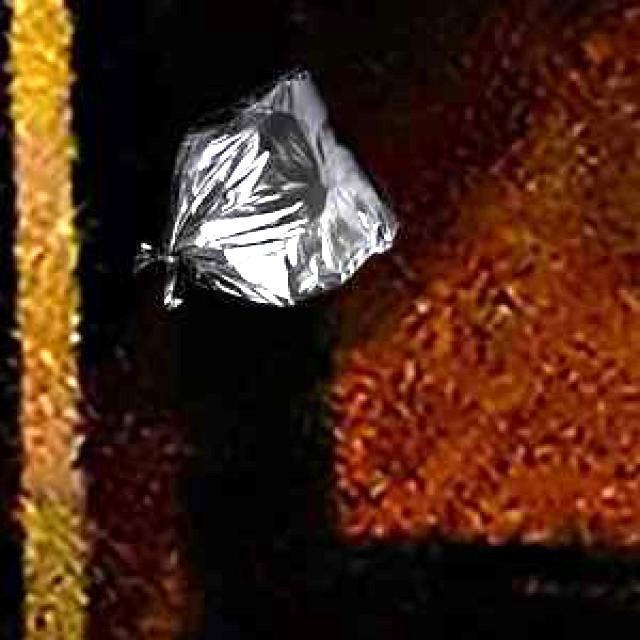Garbage_Bag: (131, 61, 396, 306)
